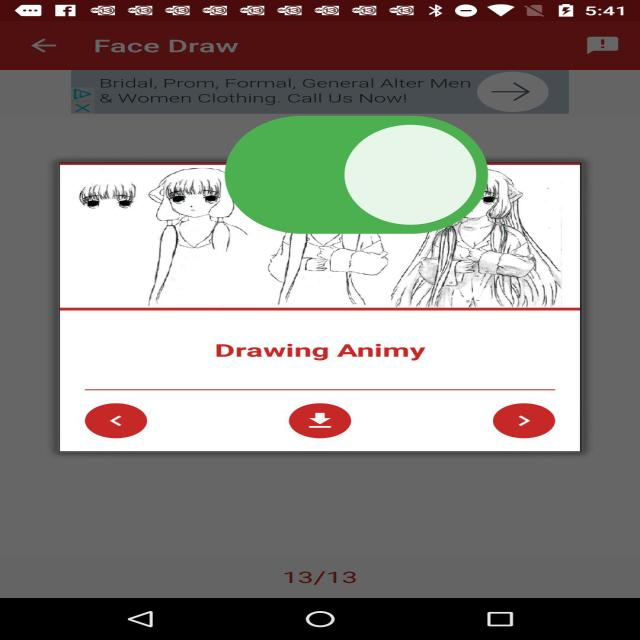social proof: (213, 70, 500, 288)
